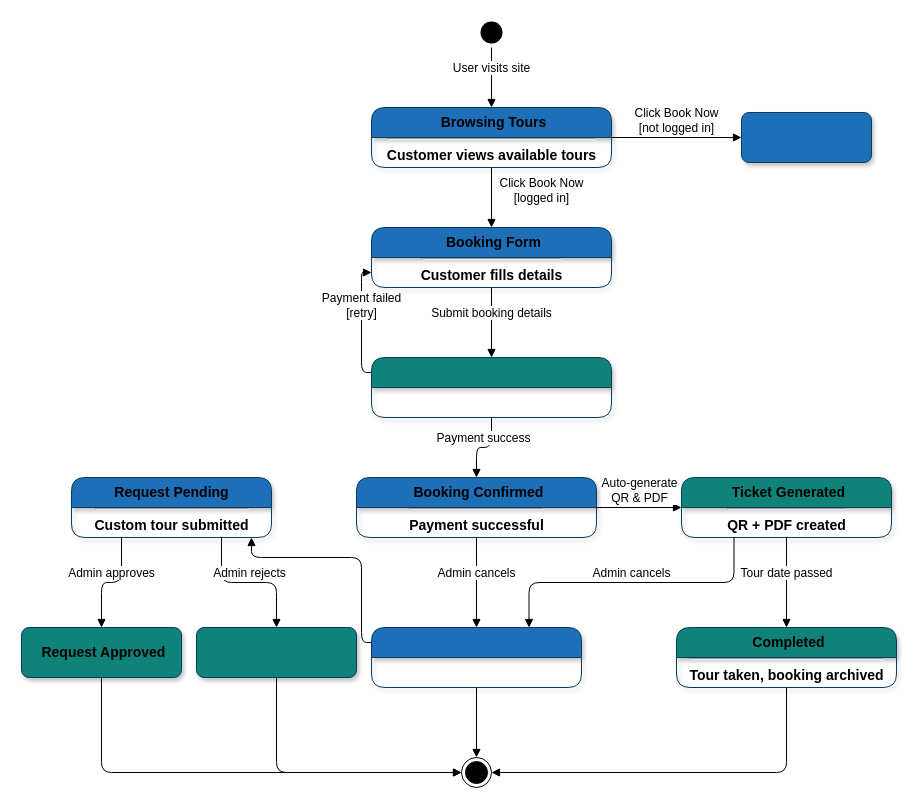
The diagram is 920 pixels wide and 805 high, and some of its shapes have lost their labels. The shapes that lost their labels are listed below. From the top down, each one's centre as x and y in pixels, then its label:
point (807, 139): Login
point (492, 388): Payment Pending Awaiting confirmation
point (277, 653): Request Rejected
point (477, 658): Cancelled Admin cancelled booking
